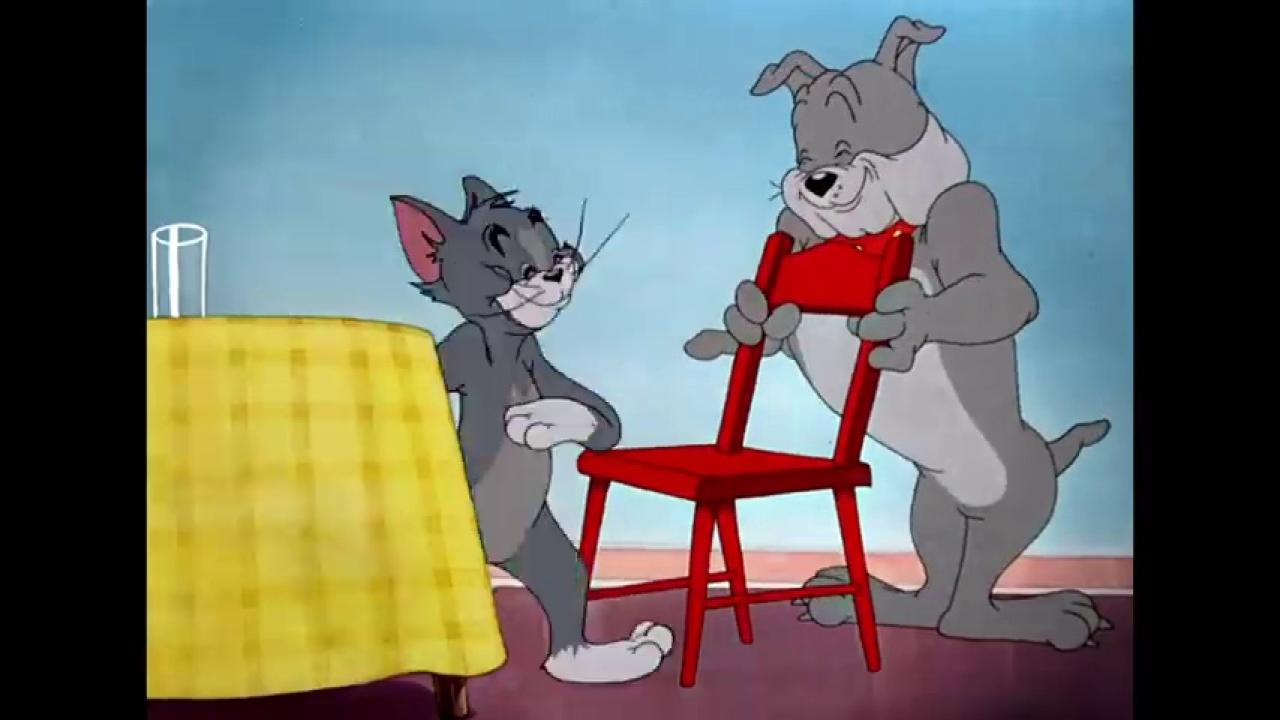Tom: (388, 172, 678, 688)
